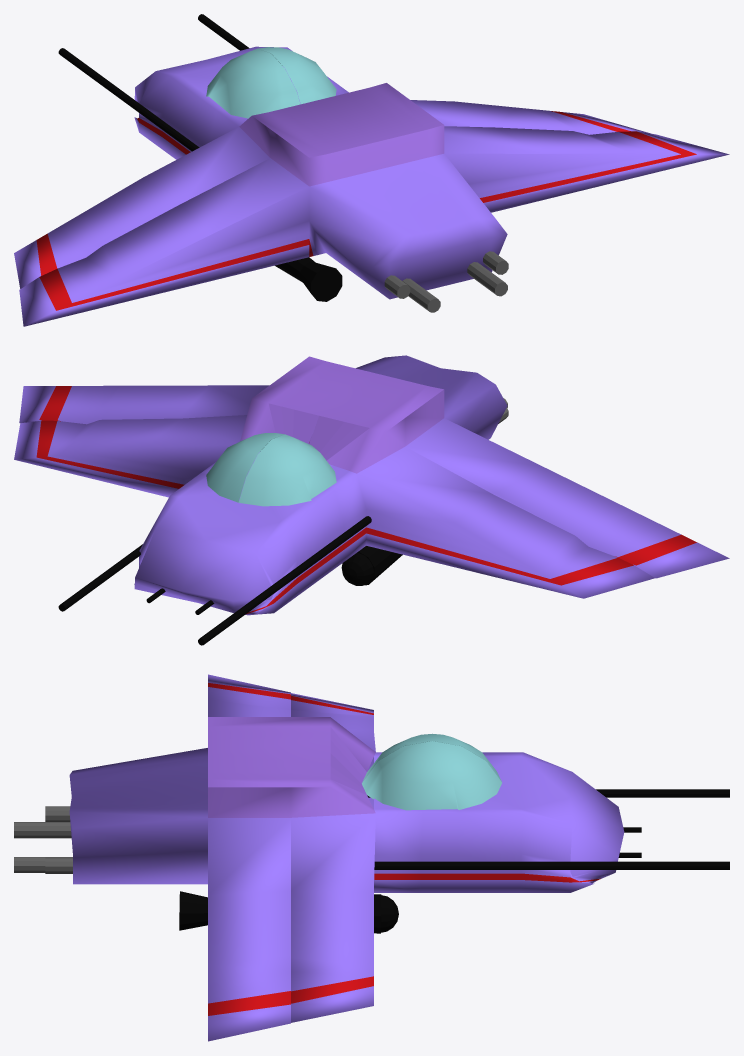
Rendered from SpaceShip.fbx.
3 renders of one model, top to bottom at view 1: azimuth 30°, elevation 25°; view 2: azimuth 150°, elevation 25°; view 3: azimuth 270°, elevation 25°, orthographic. The views are drawn at different scales.
Parts seen in each view (by area): view 1: Cube; view 2: Cube; view 3: Cube.
Boxes of the visible parts, x1,y1,x2,y2 form: Cube: (14,14,729,326); Cube: (14,355,729,645); Cube: (14,674,729,1041).
Bounding box in the file's own units: 1047 × 211 × 863.
